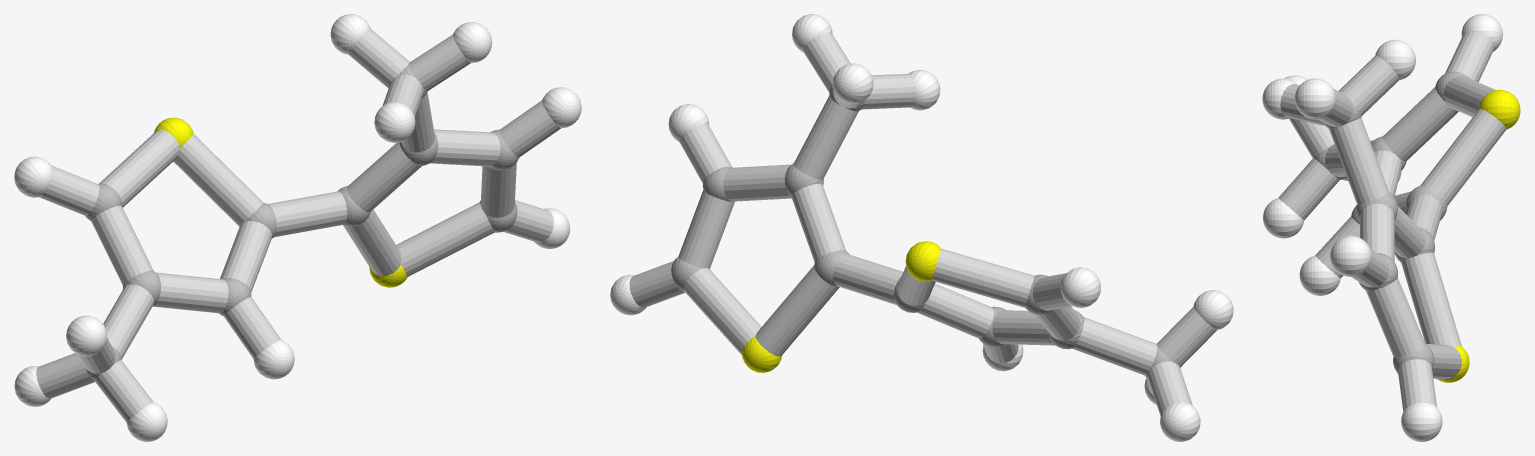
Rendered from color.glb.
3 renders of one model, left to right at view 1: azimuth 30°, elevation 25°; view 2: azimuth 150°, elevation 25°; view 3: azimuth 270°, elevation 25°, orthographic.
Visible parts, largest first — view 1: grp7965, grp3621, grp1, grp7241; view 2: grp7965, grp3621, grp1, grp7241; view 3: grp7965, grp3621, grp1, grp7241.
Boxes of the visible parts, x1,y1,x2,y2 form: grp7965: (36,28,561,422); grp3621: (14,14,581,441); grp1: (85,65,518,380); grp7241: (154,117,407,287); grp7965: (629,32,1216,415); grp3621: (610,14,1233,441); grp1: (671,86,1170,378); grp7241: (742,241,941,372); grp7965: (1278,31,1506,411); grp3621: (1262,14,1502,441); grp1: (1314,71,1470,373); grp7241: (1437,89,1520,382).
Bounding box in the file's own units: 9.6 × 5.17 × 3.74.
